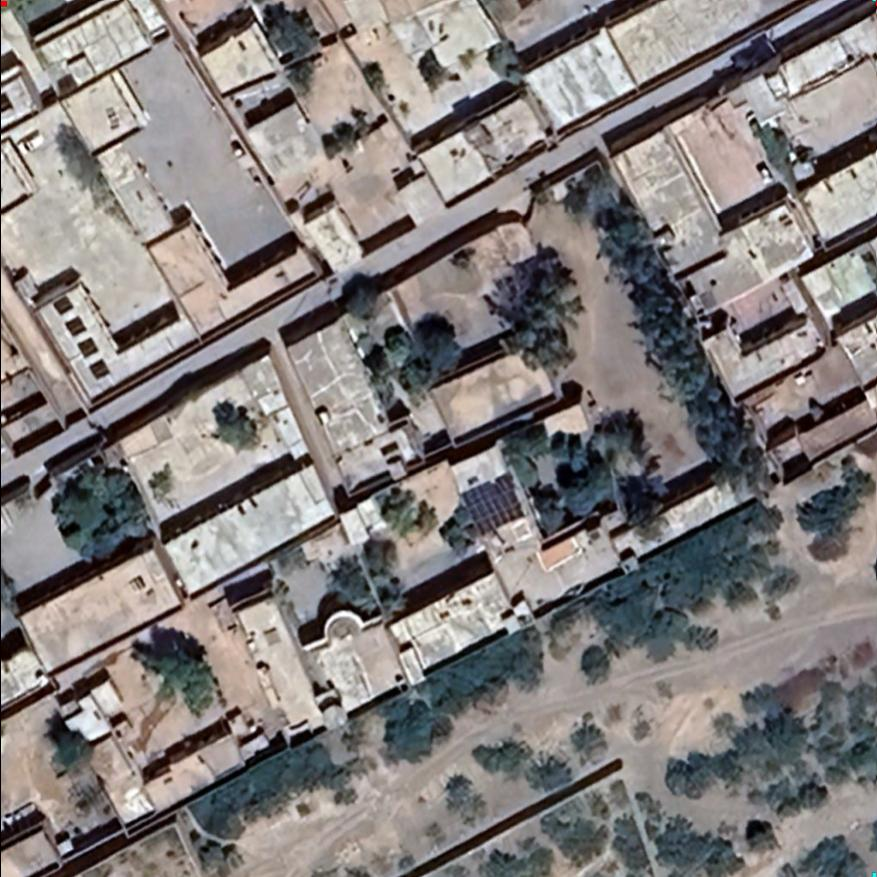Solarpanel: (454, 468, 531, 538), (84, 355, 111, 385), (73, 332, 98, 362), (48, 292, 74, 317), (62, 315, 87, 339)
